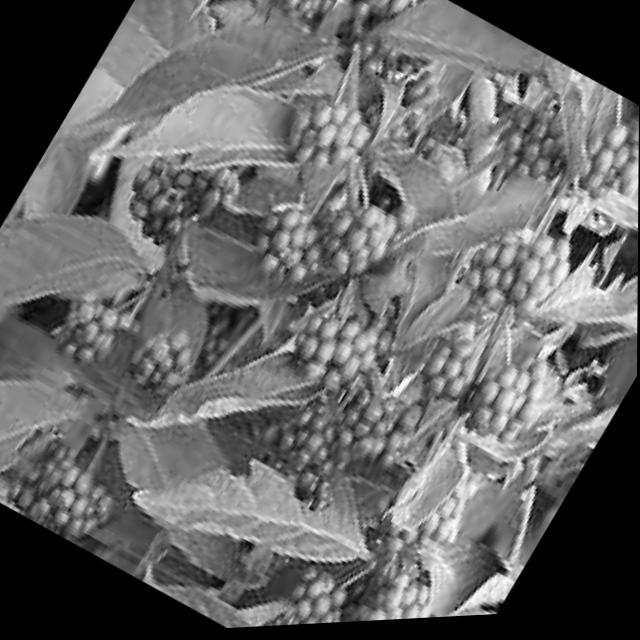Flower: (230, 295, 448, 540), (386, 295, 575, 468), (34, 266, 220, 428), (97, 114, 257, 280), (0, 416, 135, 558), (461, 222, 577, 340), (231, 187, 344, 308), (272, 83, 383, 189), (483, 100, 584, 211), (325, 544, 459, 627), (264, 545, 364, 629), (568, 113, 639, 226)
